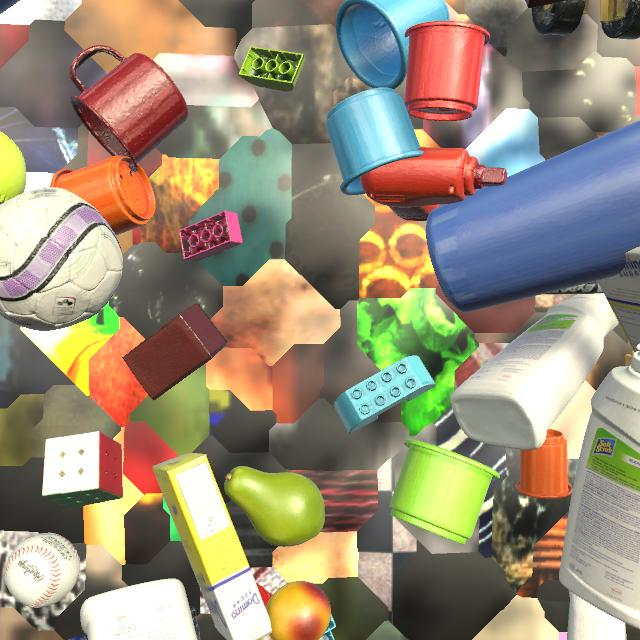ycb_004_sugar_box: (152, 453, 272, 640), (597, 246, 640, 352)
ycb_015_peach: (266, 581, 331, 640)
ycb_016_pear: (224, 466, 325, 547)
